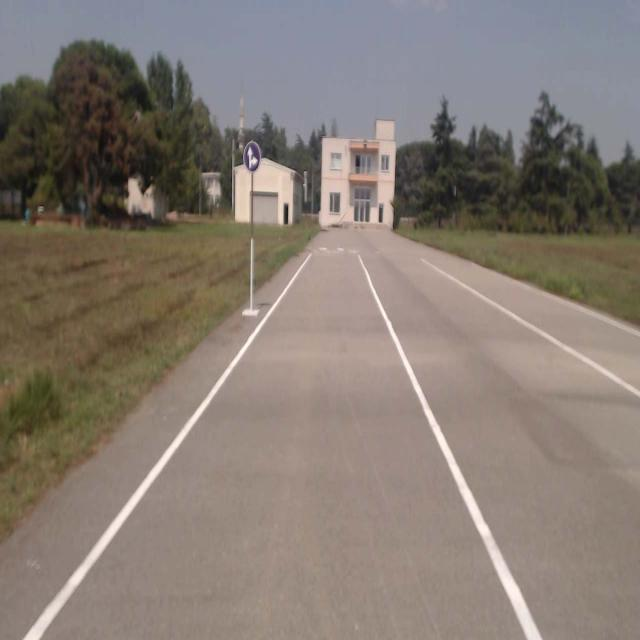ilerisag: (245, 142, 259, 174)
